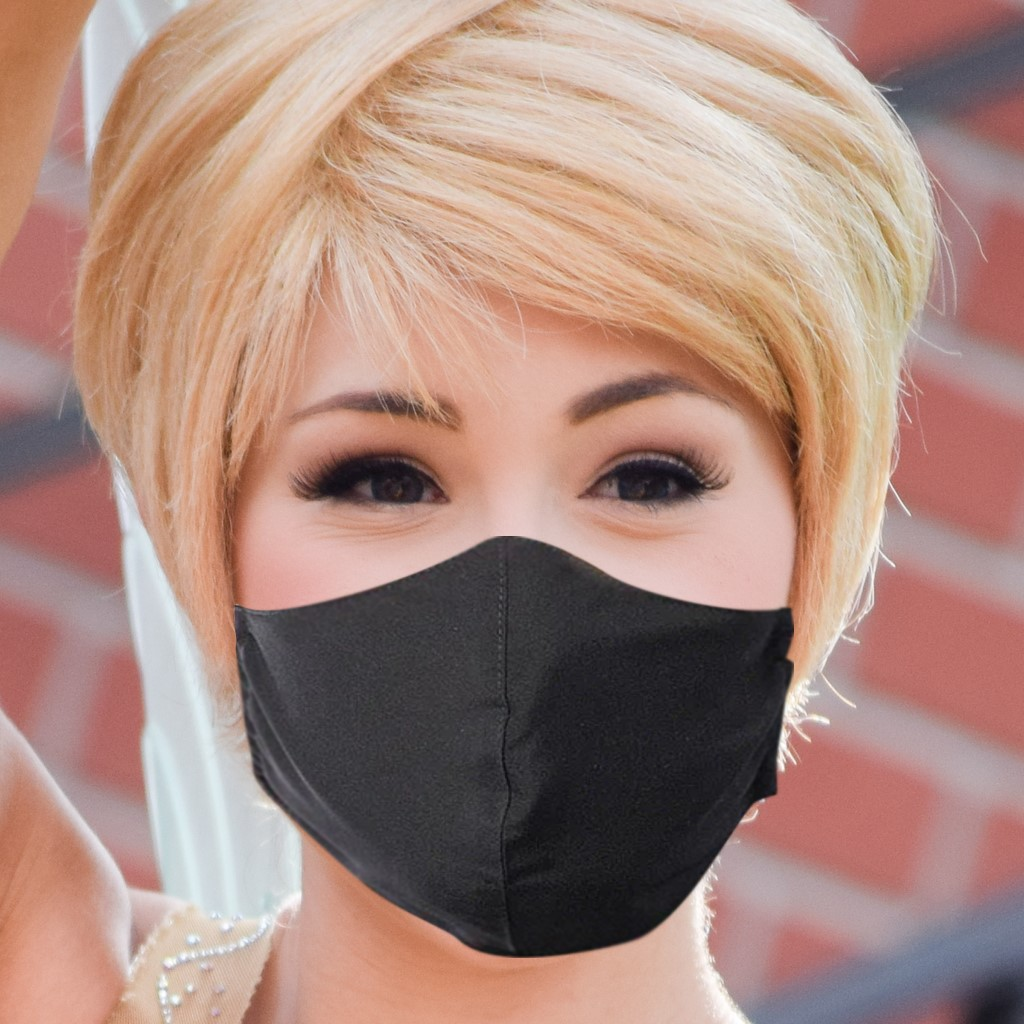con_mascara: (154, 38, 848, 963)
